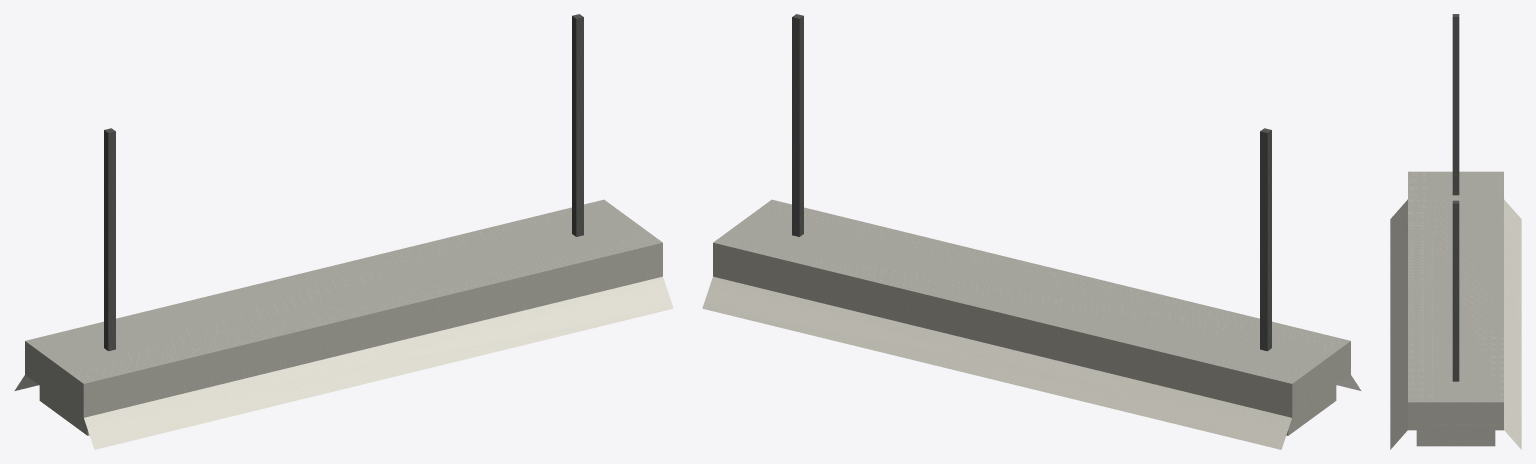
The model's file is fluorescent_fixture.glb.
3 renders of one model, left to right at view 1: azimuth 30°, elevation 25°; view 2: azimuth 150°, elevation 25°; view 3: azimuth 270°, elevation 25°, orthographic. The views are drawn at different scales.
Visible parts, largest first — view 1: FluorescentFixture; view 2: FluorescentFixture; view 3: FluorescentFixture.
Part boxes in pixels (x1,y1,x2,y2): FluorescentFixture: [14, 14, 673, 449]; FluorescentFixture: [702, 14, 1361, 449]; FluorescentFixture: [1390, 14, 1521, 449].
Bounding box in the file's own units: 1.25 × 0.57 × 0.3.
Materials: 2 (1 with a texture image).
